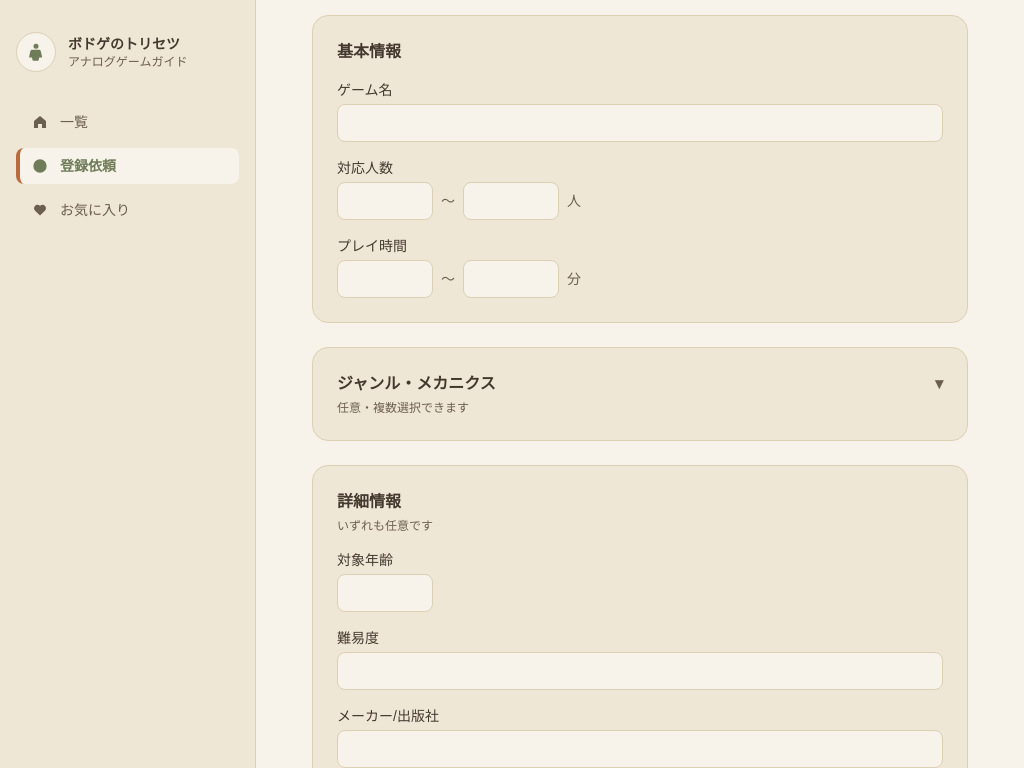
Test case: 【登録依頼画面】ジャンル選択のアコーディオン - 既定で折りたたみ、開閉操作で28種の選択肢の表示を切り替える › 見出しを押すとジャンルの選択肢が現れ、もう一度押すと隠れること(aria-expandedが開閉と連動する)
The width and height of the screenshot is (1024, 768).
(page scrolled)
Click the button "ジャンル・メカニクス ▾": click(416, 384) [337,372,943,396]
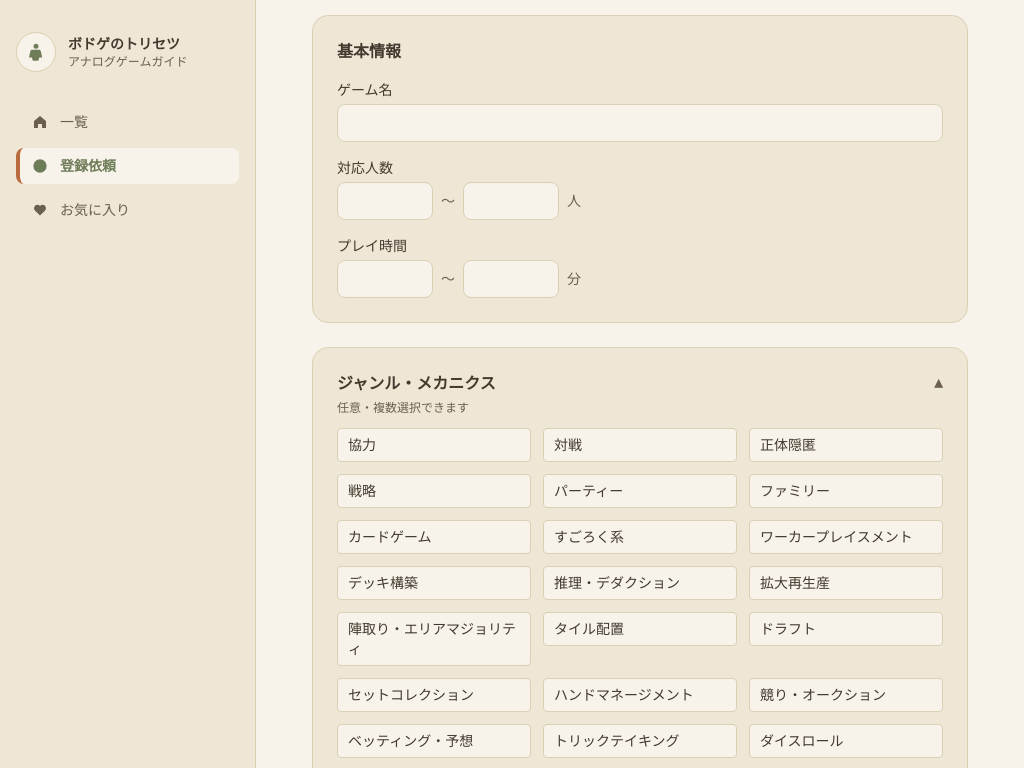
Expected: the button "ジャンル・メカニクス ▾" is expanded
Expected: the checkbox labelled "対戦" is shown, [543,428,737,462]
Click the button "ジャンル・メカニクス ▾": click(416, 384) [337,372,943,396]
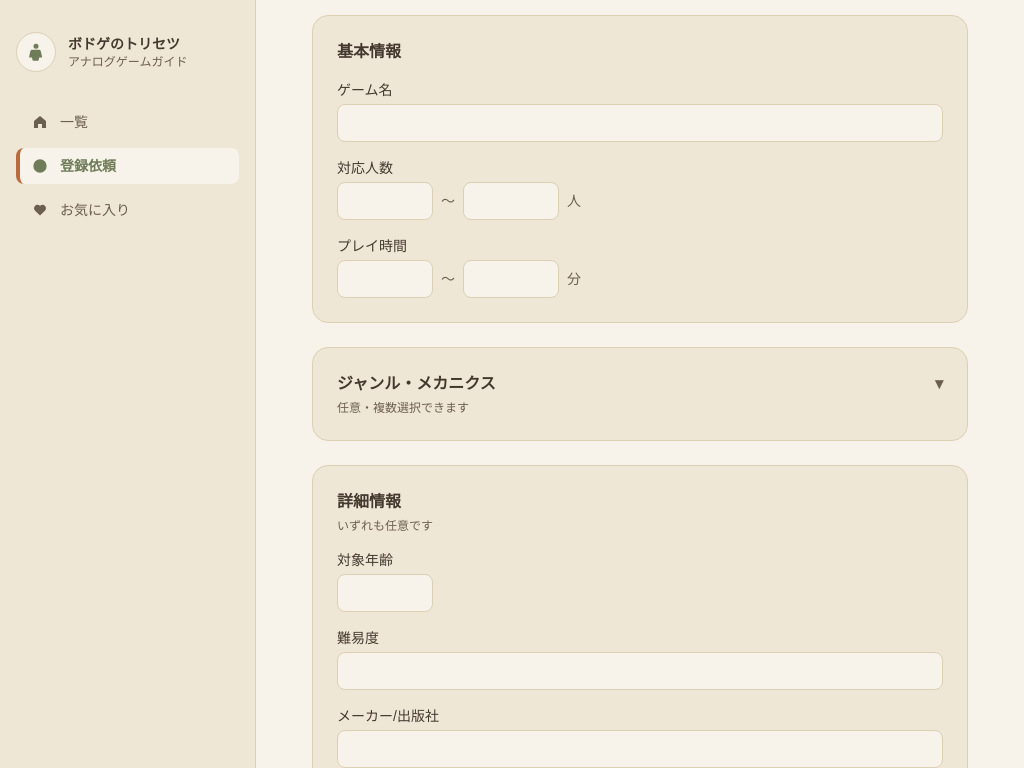
Expected: the button "ジャンル・メカニクス ▾" is collapsed, [337,372,943,396]
Expected: the checkbox labelled "対戦" is gone
